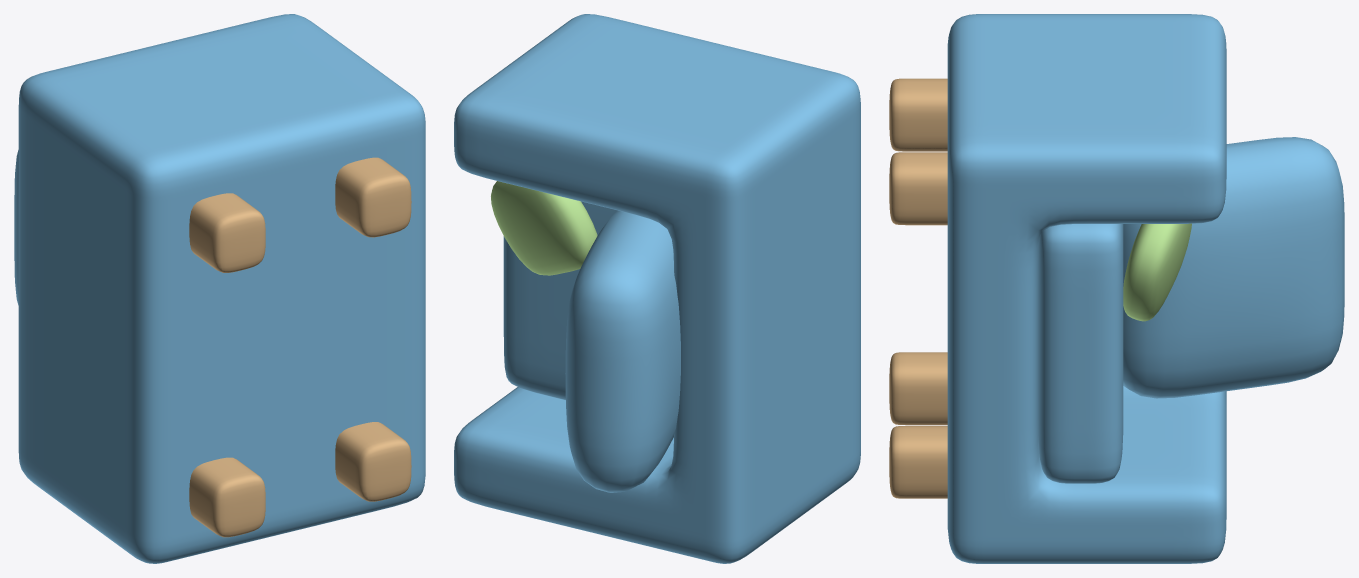
Rendered from armchair.glb.
3 views of the same model, side by side, from view 1: azimuth 30°, elevation 25°; view 2: azimuth 150°, elevation 25°; view 3: azimuth 270°, elevation 25° (orthographic). The views are drawn at different scales.
Parts seen in each view (by area): view 1: armchair; view 2: armchair; view 3: armchair.
Part boxes in pixels (box(x1,y1,x2,y2)): armchair: box(14, 14, 425, 563); armchair: box(454, 14, 860, 563); armchair: box(889, 14, 1344, 563).
Bounding box in the file's own units: 0.9 × 1.2 × 1.18.
